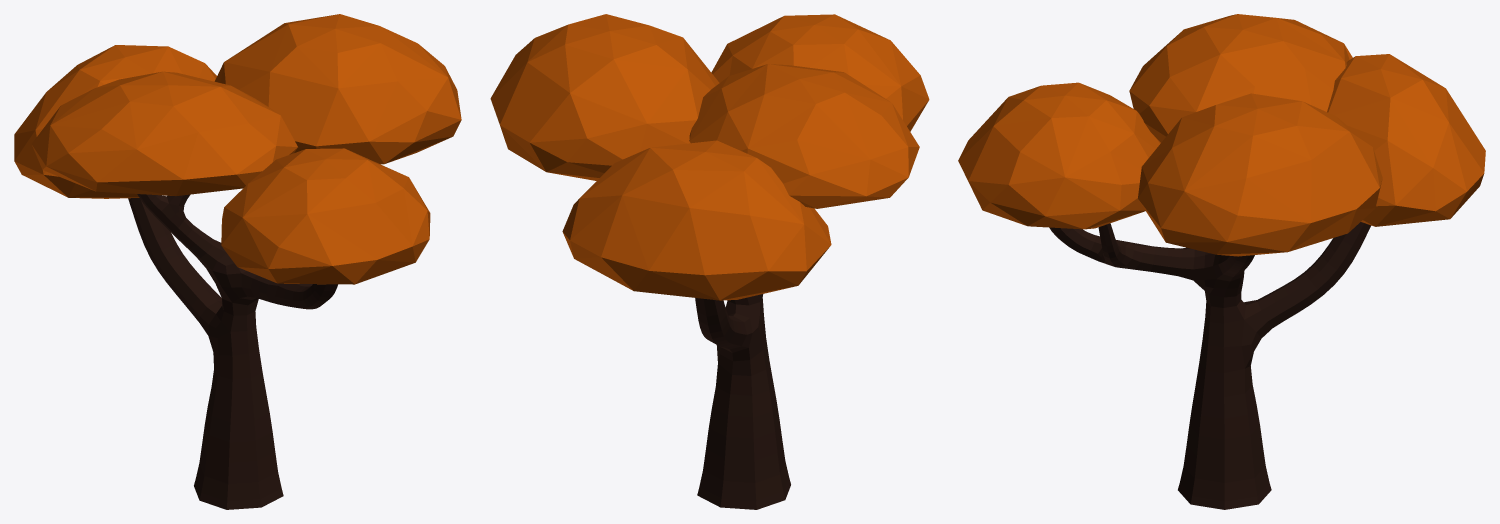
Rendered from Tree_01.fbx.
3 renders of one model, left to right at view 1: azimuth 30°, elevation 25°; view 2: azimuth 150°, elevation 25°; view 3: azimuth 270°, elevation 25°, orthographic. The views are drawn at different scales.
Parts seen in each view (by area): view 1: Tree_01; view 2: Tree_01; view 3: Tree_01.
Part boxes in pixels (bbox=[...]): Tree_01: bbox=[14, 14, 461, 509]; Tree_01: bbox=[490, 14, 929, 509]; Tree_01: bbox=[958, 14, 1485, 509].
Size of the model in its own units: 395 by 407 by 442.
